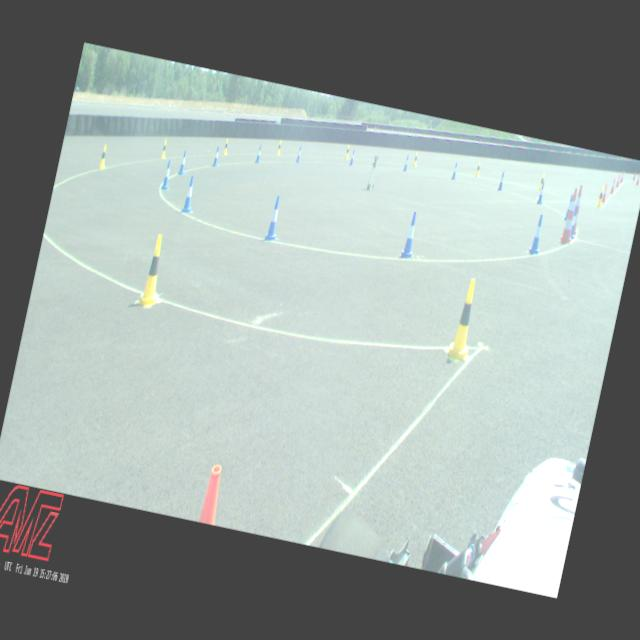blue_cone: (398, 210, 422, 260), (263, 195, 285, 242), (527, 213, 546, 255), (180, 174, 198, 213), (160, 159, 174, 190), (568, 206, 580, 240), (178, 149, 189, 175), (536, 182, 546, 204), (564, 193, 572, 220), (212, 146, 222, 166), (497, 170, 505, 190), (255, 144, 263, 162), (348, 149, 356, 165), (402, 155, 410, 171), (451, 161, 458, 179), (295, 146, 302, 162)
large_orange_cone: (198, 463, 226, 525), (558, 187, 582, 243), (568, 184, 586, 234)
orange_cone: (601, 182, 609, 202), (610, 178, 616, 194), (615, 174, 621, 187), (635, 173, 640, 185), (620, 170, 624, 183)
yellow_cone: (444, 276, 484, 363), (136, 232, 172, 310), (98, 144, 110, 170), (596, 186, 605, 206), (160, 139, 168, 159), (474, 160, 482, 177), (222, 138, 229, 154), (538, 172, 544, 190), (276, 140, 282, 154), (344, 144, 350, 158), (412, 152, 418, 166)
